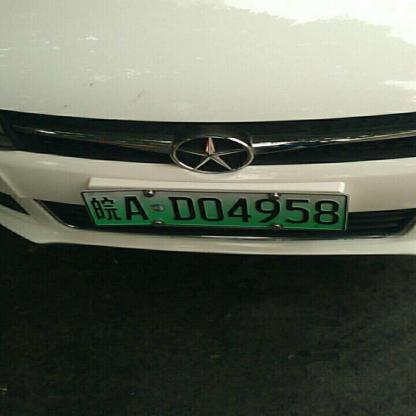lp: (82, 192, 344, 228)
